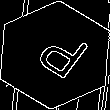P_SW: (22, 24, 88, 86)
